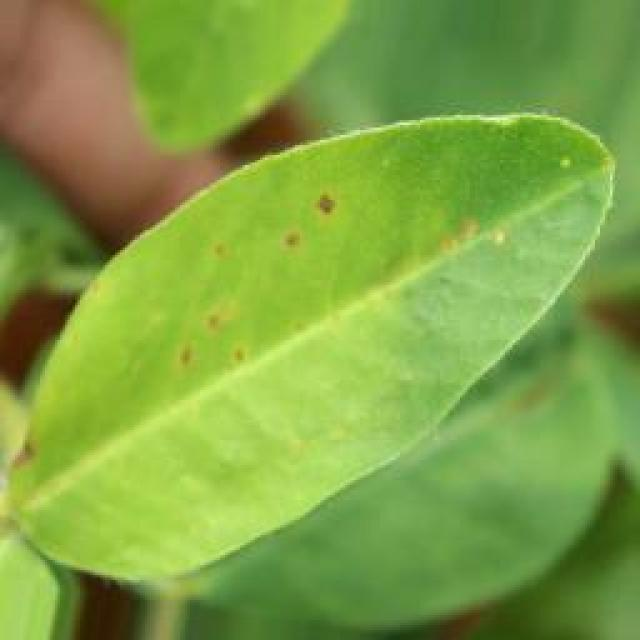Sigatoka: (163, 285, 282, 385), (253, 170, 347, 286), (418, 180, 510, 277), (198, 230, 284, 307), (0, 411, 57, 485)
